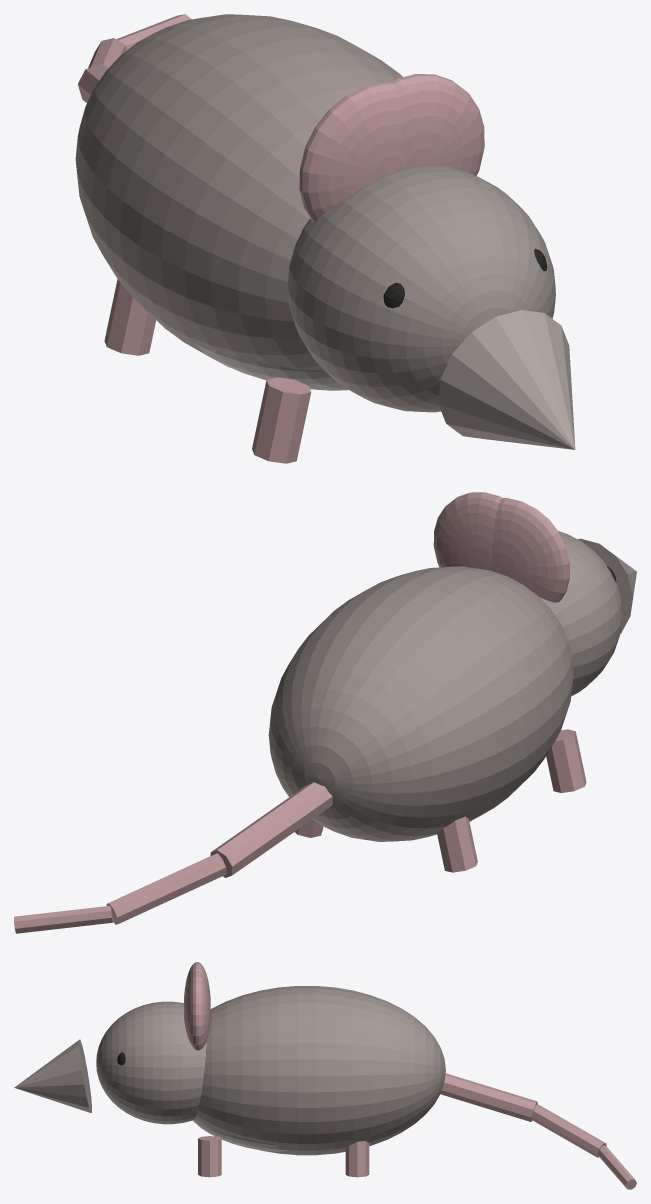
The model's file is rato.glb.
3 renders of one model, top to bottom at view 1: azimuth 30°, elevation 25°; view 2: azimuth 150°, elevation 25°; view 3: azimuth 270°, elevation 25°, orthographic. The views are drawn at different scales.
Parts seen in each view (by area): view 1: world; view 2: world; view 3: world.
Part boxes in pixels (box(x1,y1,x2,y2)): world: box(75, 14, 575, 463); world: box(14, 492, 636, 933); world: box(14, 962, 636, 1189).
Size of the model in its own units: 0.2631 by 0.2373 by 0.7392.
